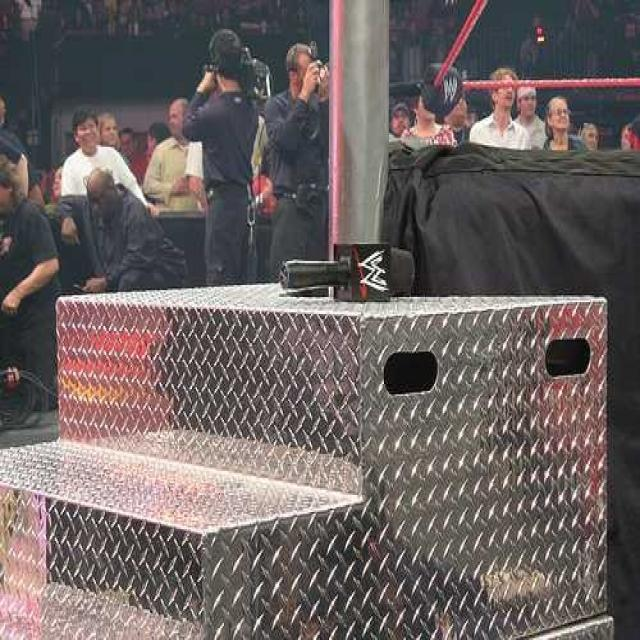microphone: (278, 244, 416, 302)
